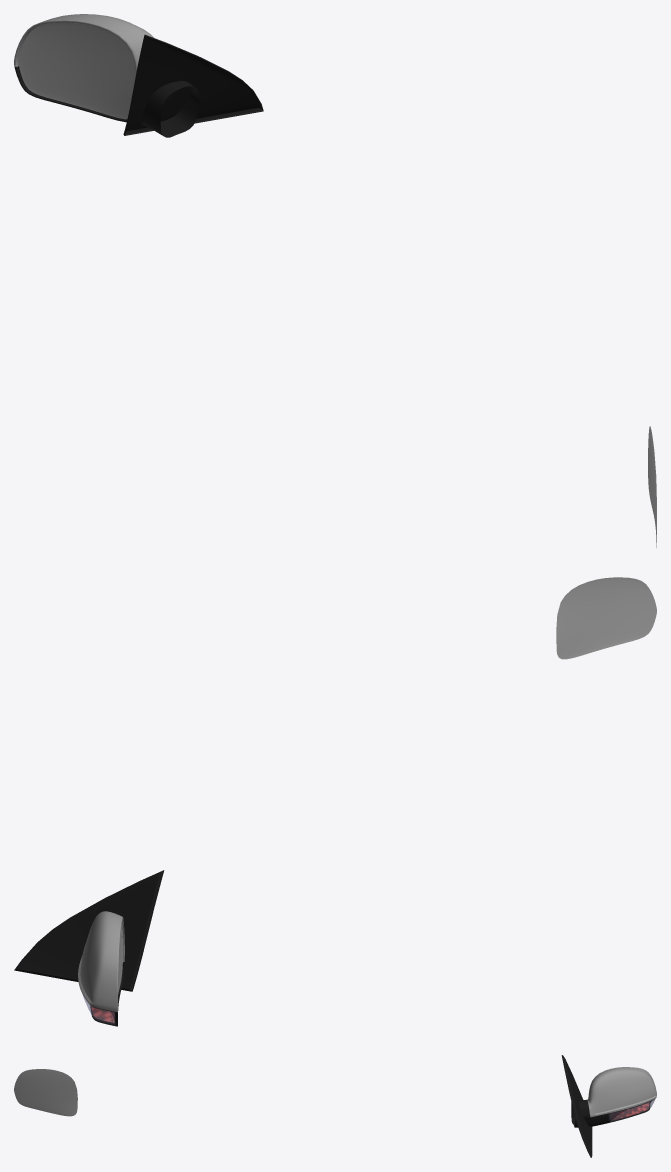
3 views of the same model, one above another, from view 1: azimuth 30°, elevation 25°; view 2: azimuth 150°, elevation 25°; view 3: azimuth 270°, elevation 25° (orthographic). The views are drawn at different scales.
Visible parts, largest first — view 1: X6164_18_261I_L_X6164_18_261I_L_2_D, X6164_18_261I_L_X6164_18_261I_L_7_DTaSI, X6164_18_261I_L_1_DaS_X6164_18_261I_L; view 2: X6164_18_261I_L_X6164_18_261I_L_2_D, X6164_18_261I_L_X6164_18_261I_L_6_DTaSI, X6164_18_261I_L_1_DaS_X6164_18_261I_L; view 3: X6164_18_261I_L_1_DaS_X6164_18_261I_L, X6164_18_261I_L_X6164_18_261I_L_6_DTaSI, X6164_18_261I_L_X6164_18_261I_L_2_D, X6164_18_261I_L_X6164_18_261I_L_8_DTaSI, X6164_18_261I_L_X6164_18_261I_L_3_N.
Part boxes in pixels (x1,y1,x2,y2): X6164_18_261I_L_X6164_18_261I_L_2_D: (14, 34, 263, 137); X6164_18_261I_L_X6164_18_261I_L_7_DTaSI: (18, 22, 136, 119); X6164_18_261I_L_1_DaS_X6164_18_261I_L: (14, 14, 153, 71); X6164_18_261I_L_X6164_18_261I_L_2_D: (14, 870, 164, 1026); X6164_18_261I_L_X6164_18_261I_L_6_DTaSI: (556, 577, 656, 659); X6164_18_261I_L_1_DaS_X6164_18_261I_L: (78, 911, 124, 1012); X6164_18_261I_L_1_DaS_X6164_18_261I_L: (587, 1067, 656, 1117); X6164_18_261I_L_X6164_18_261I_L_6_DTaSI: (14, 1069, 77, 1116); X6164_18_261I_L_X6164_18_261I_L_2_D: (561, 1055, 654, 1157); X6164_18_261I_L_X6164_18_261I_L_8_DTaSI: (609, 1099, 655, 1121); X6164_18_261I_L_X6164_18_261I_L_3_N: (610, 1102, 649, 1120).
Bounding box in the file's own units: 37.49 × 25.72 × 224.
